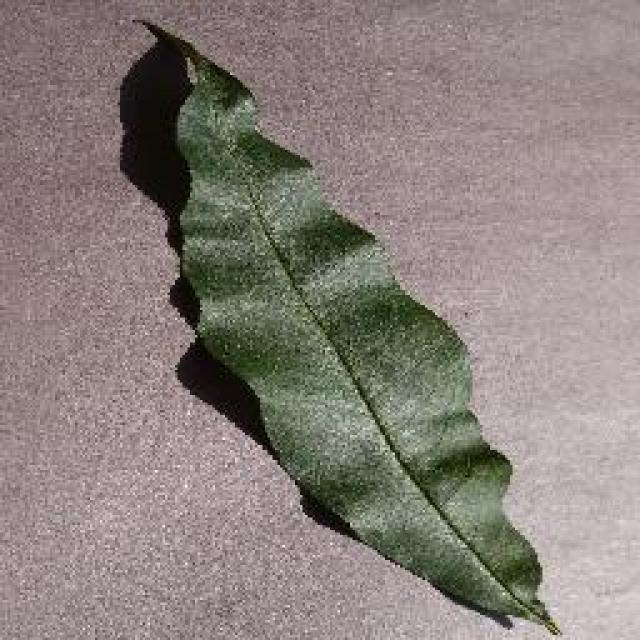Pea_healthy: (145, 36, 479, 535)
